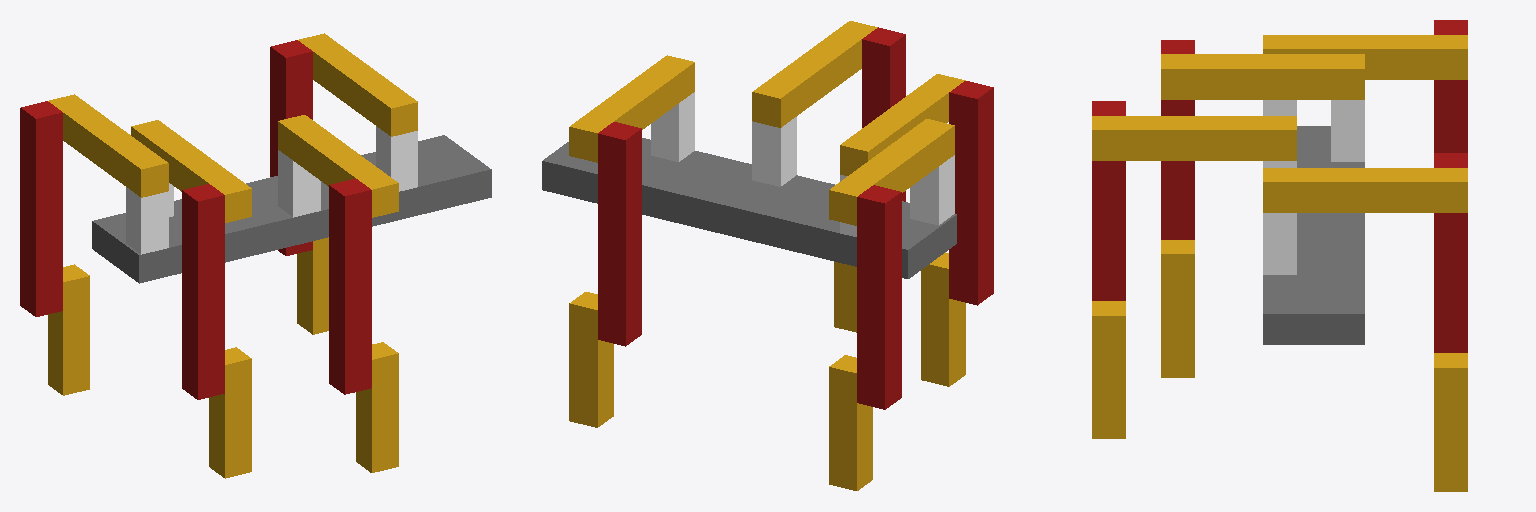
robot.urdf — v0:
<?xml version="1.0" encoding="utf-8"?>
<!-- =================================================================================== -->
<!-- |    This document was autogenerated by xacro from ../robots/v0variants/xacros/v0_4l_12.xacro | -->
<!-- |    EDITING THIS FILE BY HAND IS NOT RECOMMENDED                                 | -->
<!-- =================================================================================== -->
<robot name="v0">
  <material name="grey">
    <color rgba="0.5 0.5 0.5 1"/>
  </material>
  <material name="white">
    <color rgba="1 1 1 1"/>
  </material>
  <material name="yellow">
    <color rgba="0.91 0.7 0.14 1"/>
  </material>
  <material name="red">
    <color rgba="0.71 0.14 0.14 1"/>
  </material>
  <link name="body">
    <visual>
      <geometry>
        <box size="1.3 0.3 0.1"/>
      </geometry>
      <material name="grey"/>
      <origin rpy="0 0 0" xyz="0 0 0.7"/>
    </visual>
    <collision>
      <geometry>
        <box size="1.3 0.3 0.1"/>
      </geometry>
      <origin rpy="0 0 0" xyz="0 0 0.7"/>
    </collision>
    <inertial>
      <mass value="99.84"/>
      <inertia ixx="0.832" ixy="0.0" ixz="0.0" iyy="14.144" iyz="0.0" izz="14.8096"/>
    </inertial>
  </link>
  <link name="l1_segment_1">
    <visual>
      <geometry>
        <box size="0.1 0.1 0.2"/>
      </geometry>
      <material name="white"/>
      <origin rpy="0 0 0" xyz="0 0 0.1"/>
    </visual>
    <collision>
      <geometry>
        <box size="0.1 0.1 0.2"/>
      </geometry>
      <origin rpy="0 0 0" xyz="0 0 0.1"/>
    </collision>
    <inertial>
      <mass value="5.12"/>
      <inertia ixx="0.0213333333333" ixy="0.0" ixz="0.0" iyy="0.0213333333333" iyz="0.0" izz="0.00853333333333"/>
    </inertial>
  </link>
  <joint name="l1_base_to_joint_1" type="fixed">
    <parent link="body"/>
    <child link="l1_segment_1"/>
    <origin rpy="0 0 0" xyz="-0.5916891673859106 -0.1 0.75"/>
  </joint>
  <link name="l1_segment_2_HIP">
    <visual>
      <geometry>
        <box size="0.1 0.6 0.1"/>
      </geometry>
      <material name="yellow"/>
      <origin rpy="0 0 0" xyz="0 0.25 0"/>
    </visual>
    <collision>
      <geometry>
        <box size="0.1 0.6 0.1"/>
      </geometry>
      <origin rpy="0 0 0" xyz="0 0.25 0"/>
    </collision>
    <inertial>
      <mass value="15.36"/>
      <inertia ixx="0.4736" ixy="0.0" ixz="0.0" iyy="0.0256" iyz="0.0" izz="0.4736"/>
    </inertial>
  </link>
  <joint name="l1_joint_1_to_2" type="revolute">
    <parent link="l1_segment_1"/>
    <child link="l1_segment_2_HIP"/>
    <origin rpy="0 0 0" xyz="0 0 0.25"/>
    <axis xyz="0.0 0.0 1.0"/>
    <limit effort="2048" lower="-1.2" upper="1.2" velocity="20"/>
  </joint>
  <link name="l1_segment_3_THIGH">
    <visual>
      <geometry>
        <box size="0.1 0.1 0.7"/>
      </geometry>
      <material name="red"/>
      <origin rpy="0 0 0" xyz="0 0 -0.3"/>
    </visual>
    <collision>
      <geometry>
        <box size="0.1 0.1 0.7"/>
      </geometry>
      <origin rpy="0 0 0" xyz="0 0 -0.3"/>
    </collision>
    <inertial>
      <mass value="17.92"/>
      <inertia ixx="0.746666666667" ixy="0.0" ixz="0.0" iyy="0.746666666667" iyz="0.0" izz="0.0298666666667"/>
    </inertial>
  </link>
  <joint name="l1_joint_2_to_3" type="revolute">
    <parent link="l1_segment_2_HIP"/>
    <child link="l1_segment_3_THIGH"/>
    <origin rpy="0 0 0" xyz="-0.1 0.5 0"/>
    <axis xyz="1.0 0.0 0.0"/>
    <limit effort="2048" lower="-0.2" upper="0.75" velocity="20"/>
  </joint>
  <link name="l1_segment_4_FOOT">
    <visual>
      <geometry>
        <box size="0.1 0.1 0.4"/>
      </geometry>
      <material name="yellow"/>
      <origin rpy="0 0 0" xyz="0 0 -0.2"/>
    </visual>
    <collision>
      <geometry>
        <box size="0.1 0.1 0.4"/>
      </geometry>
      <origin rpy="0 0 0" xyz="0 0 -0.2"/>
    </collision>
    <inertial>
      <mass value="10.24"/>
      <inertia ixx="0.145066666667" ixy="0.0" ixz="0.0" iyy="0.145066666667" iyz="0.0" izz="0.0170666666667"/>
    </inertial>
  </link>
  <joint name="l1_joint_3_to_4_FOOT" type="revolute">
    <parent link="l1_segment_3_THIGH"/>
    <child link="l1_segment_4_FOOT"/>
    <origin rpy="0 0 0" xyz="0.1 0 -0.55"/>
    <axis xyz="1.0 0.0 0.0"/>
    <limit effort="2048" lower="-0.2" upper="0.5" velocity="20"/>
  </joint>
  <link name="r2_segment_1">
    <visual>
      <geometry>
        <box size="0.1 0.1 0.2"/>
      </geometry>
      <material name="white"/>
      <origin rpy="0 0 0" xyz="0 0 0.1"/>
    </visual>
    <collision>
      <geometry>
        <box size="0.1 0.1 0.2"/>
      </geometry>
      <origin rpy="0 0 0" xyz="0 0 0.1"/>
    </collision>
    <inertial>
      <mass value="5.12"/>
      <inertia ixx="0.0213333333333" ixy="0.0" ixz="0.0" iyy="0.0213333333333" iyz="0.0" izz="0.00853333333333"/>
    </inertial>
  </link>
  <joint name="r2_base_to_joint_1" type="fixed">
    <parent link="body"/>
    <child link="r2_segment_1"/>
    <origin rpy="0 0 0" xyz="-0.030695257579278712 -0.1 0.75"/>
  </joint>
  <link name="r2_segment_2_HIP">
    <visual>
      <geometry>
        <box size="0.1 0.6 0.1"/>
      </geometry>
      <material name="yellow"/>
      <origin rpy="0 0 0" xyz="0 -0.25 0"/>
    </visual>
    <collision>
      <geometry>
        <box size="0.1 0.6 0.1"/>
      </geometry>
      <origin rpy="0 0 0" xyz="0 -0.25 0"/>
    </collision>
    <inertial>
      <mass value="15.36"/>
      <inertia ixx="0.4736" ixy="0.0" ixz="0.0" iyy="0.0256" iyz="0.0" izz="0.4736"/>
    </inertial>
  </link>
  <joint name="r2_joint_1_to_2" type="revolute">
    <parent link="r2_segment_1"/>
    <child link="r2_segment_2_HIP"/>
    <origin rpy="0 0 0" xyz="0 0 0.25"/>
    <axis xyz="0.0 0.0 1.0"/>
    <limit effort="2048" lower="-1.2" upper="1.2" velocity="20"/>
  </joint>
  <link name="r2_segment_3_THIGH">
    <visual>
      <geometry>
        <box size="0.1 0.1 0.7"/>
      </geometry>
      <material name="red"/>
      <origin rpy="0 0 0" xyz="0 0 -0.3"/>
    </visual>
    <collision>
      <geometry>
        <box size="0.1 0.1 0.7"/>
      </geometry>
      <origin rpy="0 0 0" xyz="0 0 -0.3"/>
    </collision>
    <inertial>
      <mass value="17.92"/>
      <inertia ixx="0.746666666667" ixy="0.0" ixz="0.0" iyy="0.746666666667" iyz="0.0" izz="0.0298666666667"/>
    </inertial>
  </link>
  <joint name="r2_joint_2_to_3" type="revolute">
    <parent link="r2_segment_2_HIP"/>
    <child link="r2_segment_3_THIGH"/>
    <origin rpy="0 0 0" xyz="-0.1 -0.5 0"/>
    <axis xyz="1.0 0.0 0.0"/>
    <limit effort="2048" lower="-0.75" upper="0.2" velocity="20"/>
  </joint>
  <link name="r2_segment_4_FOOT">
    <visual>
      <geometry>
        <box size="0.1 0.1 0.4"/>
      </geometry>
      <material name="yellow"/>
      <origin rpy="0 0 0" xyz="0 0 -0.2"/>
    </visual>
    <collision>
      <geometry>
        <box size="0.1 0.1 0.4"/>
      </geometry>
      <origin rpy="0 0 0" xyz="0 0 -0.2"/>
    </collision>
    <inertial>
      <mass value="10.24"/>
      <inertia ixx="0.145066666667" ixy="0.0" ixz="0.0" iyy="0.145066666667" iyz="0.0" izz="0.0170666666667"/>
    </inertial>
  </link>
  <joint name="r2_joint_3_to_4_FOOT" type="revolute">
    <parent link="r2_segment_3_THIGH"/>
    <child link="r2_segment_4_FOOT"/>
    <origin rpy="0 0 0" xyz="0.1 0 -0.55"/>
    <axis xyz="1.0 0.0 0.0"/>
    <limit effort="2048" lower="-0.5" upper="0.2" velocity="20"/>
  </joint>
  <link name="l3_segment_1">
    <visual>
      <geometry>
        <box size="0.1 0.1 0.2"/>
      </geometry>
      <material name="white"/>
      <origin rpy="0 0 0" xyz="0 0 0.1"/>
    </visual>
    <collision>
      <geometry>
        <box size="0.1 0.1 0.2"/>
      </geometry>
      <origin rpy="0 0 0" xyz="0 0 0.1"/>
    </collision>
    <inertial>
      <mass value="5.12"/>
      <inertia ixx="0.0213333333333" ixy="0.0" ixz="0.0" iyy="0.0213333333333" iyz="0.0" izz="0.00853333333333"/>
    </inertial>
  </link>
  <joint name="l3_base_to_joint_1" type="fixed">
    <parent link="body"/>
    <child link="l3_segment_1"/>
    <origin rpy="0 0 0" xyz="0.3302996458638602 -0.1 0.75"/>
  </joint>
  <link name="l3_segment_2_HIP">
    <visual>
      <geometry>
        <box size="0.1 0.6 0.1"/>
      </geometry>
      <material name="yellow"/>
      <origin rpy="0 0 0" xyz="0 0.25 0"/>
    </visual>
    <collision>
      <geometry>
        <box size="0.1 0.6 0.1"/>
      </geometry>
      <origin rpy="0 0 0" xyz="0 0.25 0"/>
    </collision>
    <inertial>
      <mass value="15.36"/>
      <inertia ixx="0.4736" ixy="0.0" ixz="0.0" iyy="0.0256" iyz="0.0" izz="0.4736"/>
    </inertial>
  </link>
  <joint name="l3_joint_1_to_2" type="revolute">
    <parent link="l3_segment_1"/>
    <child link="l3_segment_2_HIP"/>
    <origin rpy="0 0 0" xyz="0 0 0.25"/>
    <axis xyz="0.0 0.0 1.0"/>
    <limit effort="2048" lower="-1.2" upper="1.2" velocity="20"/>
  </joint>
  <link name="l3_segment_3_THIGH">
    <visual>
      <geometry>
        <box size="0.1 0.1 0.7"/>
      </geometry>
      <material name="red"/>
      <origin rpy="0 0 0" xyz="0 0 -0.3"/>
    </visual>
    <collision>
      <geometry>
        <box size="0.1 0.1 0.7"/>
      </geometry>
      <origin rpy="0 0 0" xyz="0 0 -0.3"/>
    </collision>
    <inertial>
      <mass value="17.92"/>
      <inertia ixx="0.746666666667" ixy="0.0" ixz="0.0" iyy="0.746666666667" iyz="0.0" izz="0.0298666666667"/>
    </inertial>
  </link>
  <joint name="l3_joint_2_to_3" type="revolute">
    <parent link="l3_segment_2_HIP"/>
    <child link="l3_segment_3_THIGH"/>
    <origin rpy="0 0 0" xyz="-0.1 0.5 0"/>
    <axis xyz="1.0 0.0 0.0"/>
    <limit effort="2048" lower="-0.2" upper="0.75" velocity="20"/>
  </joint>
  <link name="l3_segment_4_FOOT">
    <visual>
      <geometry>
        <box size="0.1 0.1 0.4"/>
      </geometry>
      <material name="yellow"/>
      <origin rpy="0 0 0" xyz="0 0 -0.2"/>
    </visual>
    <collision>
      <geometry>
        <box size="0.1 0.1 0.4"/>
      </geometry>
      <origin rpy="0 0 0" xyz="0 0 -0.2"/>
    </collision>
    <inertial>
      <mass value="10.24"/>
      <inertia ixx="0.145066666667" ixy="0.0" ixz="0.0" iyy="0.145066666667" iyz="0.0" izz="0.0170666666667"/>
    </inertial>
  </link>
  <joint name="l3_joint_3_to_4_FOOT" type="revolute">
    <parent link="l3_segment_3_THIGH"/>
    <child link="l3_segment_4_FOOT"/>
    <origin rpy="0 0 0" xyz="0.1 0 -0.55"/>
    <axis xyz="1.0 0.0 0.0"/>
    <limit effort="2048" lower="-0.2" upper="0.5" velocity="20"/>
  </joint>
  <link name="r4_segment_1">
    <visual>
      <geometry>
        <box size="0.1 0.1 0.2"/>
      </geometry>
      <material name="white"/>
      <origin rpy="0 0 0" xyz="0 0 0.1"/>
    </visual>
    <collision>
      <geometry>
        <box size="0.1 0.1 0.2"/>
      </geometry>
      <origin rpy="0 0 0" xyz="0 0 0.1"/>
    </collision>
    <inertial>
      <mass value="5.12"/>
      <inertia ixx="0.0213333333333" ixy="0.0" ixz="0.0" iyy="0.0213333333333" iyz="0.0" izz="0.00853333333333"/>
    </inertial>
  </link>
  <joint name="r4_base_to_joint_1" type="fixed">
    <parent link="body"/>
    <child link="r4_segment_1"/>
    <origin rpy="0 0 0" xyz="-0.4569919439749723 0.1 0.75"/>
  </joint>
  <link name="r4_segment_2_HIP">
    <visual>
      <geometry>
        <box size="0.1 0.6 0.1"/>
      </geometry>
      <material name="yellow"/>
      <origin rpy="0 0 0" xyz="0 -0.25 0"/>
    </visual>
    <collision>
      <geometry>
        <box size="0.1 0.6 0.1"/>
      </geometry>
      <origin rpy="0 0 0" xyz="0 -0.25 0"/>
    </collision>
    <inertial>
      <mass value="15.36"/>
      <inertia ixx="0.4736" ixy="0.0" ixz="0.0" iyy="0.0256" iyz="0.0" izz="0.4736"/>
    </inertial>
  </link>
  <joint name="r4_joint_1_to_2" type="revolute">
    <parent link="r4_segment_1"/>
    <child link="r4_segment_2_HIP"/>
    <origin rpy="0 0 0" xyz="0 0 0.25"/>
    <axis xyz="0.0 0.0 1.0"/>
    <limit effort="2048" lower="-1.2" upper="1.2" velocity="20"/>
  </joint>
  <link name="r4_segment_3_THIGH">
    <visual>
      <geometry>
        <box size="0.1 0.1 0.7"/>
      </geometry>
      <material name="red"/>
      <origin rpy="0 0 0" xyz="0 0 -0.3"/>
    </visual>
    <collision>
      <geometry>
        <box size="0.1 0.1 0.7"/>
      </geometry>
      <origin rpy="0 0 0" xyz="0 0 -0.3"/>
    </collision>
    <inertial>
      <mass value="17.92"/>
      <inertia ixx="0.746666666667" ixy="0.0" ixz="0.0" iyy="0.746666666667" iyz="0.0" izz="0.0298666666667"/>
    </inertial>
  </link>
  <joint name="r4_joint_2_to_3" type="revolute">
    <parent link="r4_segment_2_HIP"/>
    <child link="r4_segment_3_THIGH"/>
    <origin rpy="0 0 0" xyz="-0.1 -0.5 0"/>
    <axis xyz="1.0 0.0 0.0"/>
    <limit effort="2048" lower="-0.75" upper="0.2" velocity="20"/>
  </joint>
  <link name="r4_segment_4_FOOT">
    <visual>
      <geometry>
        <box size="0.1 0.1 0.4"/>
      </geometry>
      <material name="yellow"/>
      <origin rpy="0 0 0" xyz="0 0 -0.2"/>
    </visual>
    <collision>
      <geometry>
        <box size="0.1 0.1 0.4"/>
      </geometry>
      <origin rpy="0 0 0" xyz="0 0 -0.2"/>
    </collision>
    <inertial>
      <mass value="10.24"/>
      <inertia ixx="0.145066666667" ixy="0.0" ixz="0.0" iyy="0.145066666667" iyz="0.0" izz="0.0170666666667"/>
    </inertial>
  </link>
  <joint name="r4_joint_3_to_4_FOOT" type="revolute">
    <parent link="r4_segment_3_THIGH"/>
    <child link="r4_segment_4_FOOT"/>
    <origin rpy="0 0 0" xyz="0.1 0 -0.55"/>
    <axis xyz="1.0 0.0 0.0"/>
    <limit effort="2048" lower="-0.5" upper="0.2" velocity="20"/>
  </joint>
</robot>

--- Facts derived from the render (not from the file) ---
Views: 3 orthographic renders of the robot side by side, from view 1: azimuth 30°, elevation 25°; view 2: azimuth 150°, elevation 25°; view 3: azimuth 270°, elevation 25°.
Robot: v0 — 17 links, 16 joints (12 revolute, 4 fixed); root link body; default pose: all joints at 0.
Visible links, largest first — view 1: body, r2_segment_3_THIGH, r4_segment_3_THIGH, l1_segment_3_THIGH, l1_segment_2_HIP, l3_segment_2_HIP, r2_segment_2_HIP, r2_segment_4_FOOT, r4_segment_4_FOOT, l1_segment_4_FOOT, r4_segment_2_HIP, l3_segment_3_THIGH (+4 smaller); view 2: body, l1_segment_3_THIGH, l3_segment_3_THIGH, r4_segment_3_THIGH, r2_segment_2_HIP, l3_segment_2_HIP, l1_segment_2_HIP, l3_segment_4_FOOT, l1_segment_4_FOOT, r4_segment_4_FOOT, r4_segment_2_HIP, r2_segment_3_THIGH (+4 smaller); view 3: body, r4_segment_2_HIP, r2_segment_2_HIP, l3_segment_2_HIP, l1_segment_2_HIP, r2_segment_3_THIGH, l3_segment_3_THIGH, l3_segment_4_FOOT, r2_segment_4_FOOT, r4_segment_4_FOOT, r4_segment_3_THIGH, l1_segment_3_THIGH (+3 smaller).
Boxes of the visible links, bbox=[...] form: body: bbox=[92, 135, 491, 283]; r2_segment_3_THIGH: bbox=[329, 178, 371, 394]; r4_segment_3_THIGH: bbox=[182, 184, 224, 399]; l1_segment_3_THIGH: bbox=[20, 101, 62, 316]; l1_segment_2_HIP: bbox=[48, 94, 168, 197]; l3_segment_2_HIP: bbox=[298, 33, 417, 136]; r2_segment_2_HIP: bbox=[278, 115, 398, 217]; r2_segment_4_FOOT: bbox=[356, 342, 398, 472]; r4_segment_4_FOOT: bbox=[209, 347, 251, 478]; l1_segment_4_FOOT: bbox=[48, 264, 89, 395]; r4_segment_2_HIP: bbox=[131, 120, 251, 222]; l3_segment_3_THIGH: bbox=[270, 40, 312, 255]; body: bbox=[542, 138, 956, 278]; l1_segment_3_THIGH: bbox=[857, 185, 901, 409]; l3_segment_3_THIGH: bbox=[598, 122, 641, 346]; r4_segment_3_THIGH: bbox=[949, 81, 993, 305]; r2_segment_2_HIP: bbox=[752, 21, 877, 127]; l3_segment_2_HIP: bbox=[569, 55, 694, 162]; l1_segment_2_HIP: bbox=[829, 119, 954, 225]; l3_segment_4_FOOT: bbox=[569, 292, 613, 427]; l1_segment_4_FOOT: bbox=[829, 355, 872, 490]; r4_segment_4_FOOT: bbox=[921, 252, 965, 386]; r4_segment_2_HIP: bbox=[840, 74, 965, 175]; r2_segment_3_THIGH: bbox=[862, 27, 905, 201]; body: bbox=[1263, 126, 1364, 344]; r4_segment_2_HIP: bbox=[1161, 54, 1364, 99]; r2_segment_2_HIP: bbox=[1092, 116, 1296, 160]; l3_segment_2_HIP: bbox=[1263, 168, 1467, 212]; l1_segment_2_HIP: bbox=[1263, 35, 1467, 79]; r2_segment_3_THIGH: bbox=[1092, 101, 1125, 300]; l3_segment_3_THIGH: bbox=[1434, 153, 1467, 352]; l3_segment_4_FOOT: bbox=[1434, 353, 1467, 491]; r2_segment_4_FOOT: bbox=[1092, 301, 1125, 438]; r4_segment_4_FOOT: bbox=[1161, 240, 1194, 377]; r4_segment_3_THIGH: bbox=[1161, 40, 1194, 239]; l1_segment_3_THIGH: bbox=[1434, 20, 1467, 152].
Bounding box of the posed robot: 1.39 × 1.1 × 1 m (x, y, z).
Geometry: primitives only (box / cylinder / sphere), no mesh files.